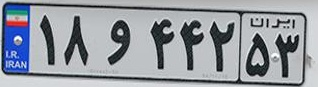character: (101, 13, 136, 68), (176, 13, 207, 74), (207, 13, 237, 74), (63, 11, 93, 71), (146, 13, 176, 73), (34, 11, 62, 70), (243, 31, 274, 77), (275, 30, 302, 80)
